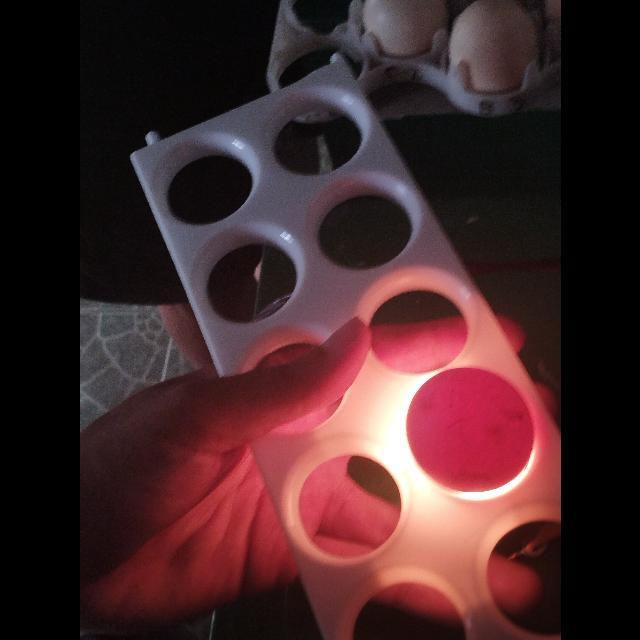Infertile: (404, 365, 536, 499)
